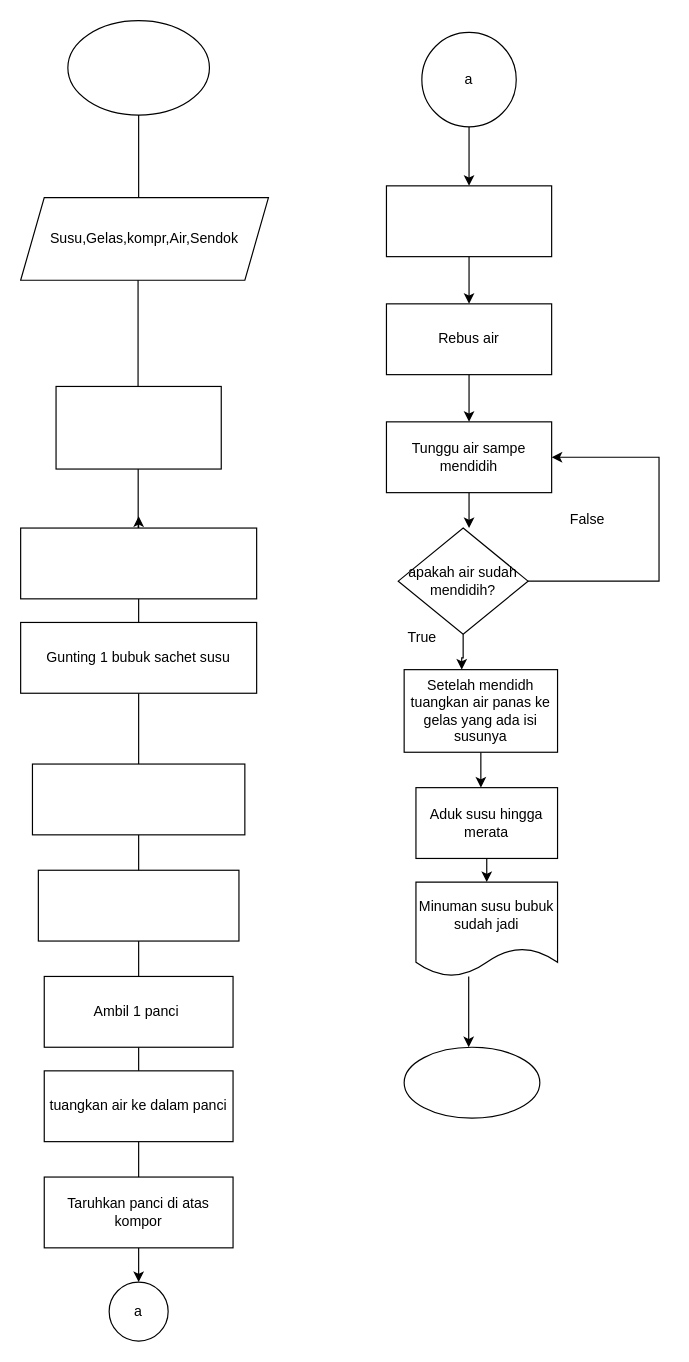
This 689x1362 diagram has some shape labels left out. The shapes that lost their labels are listed below. From the top down, each one's centre as x and y in pixels, then its label:
At pixel 138 67: "START".
At pixel 468 221: "Nyalakan kompor".
At pixel 138 427: "Pergi kedapur".
At pixel 138 563: "ambil satu susu bubuk di dapur".
At pixel 138 799: "Ambil satu gelas buat taruh susu".
At pixel 138 905: "Tuangkan 1 bubuk susu di gelas".
At pixel 471 1082: "Finish".
